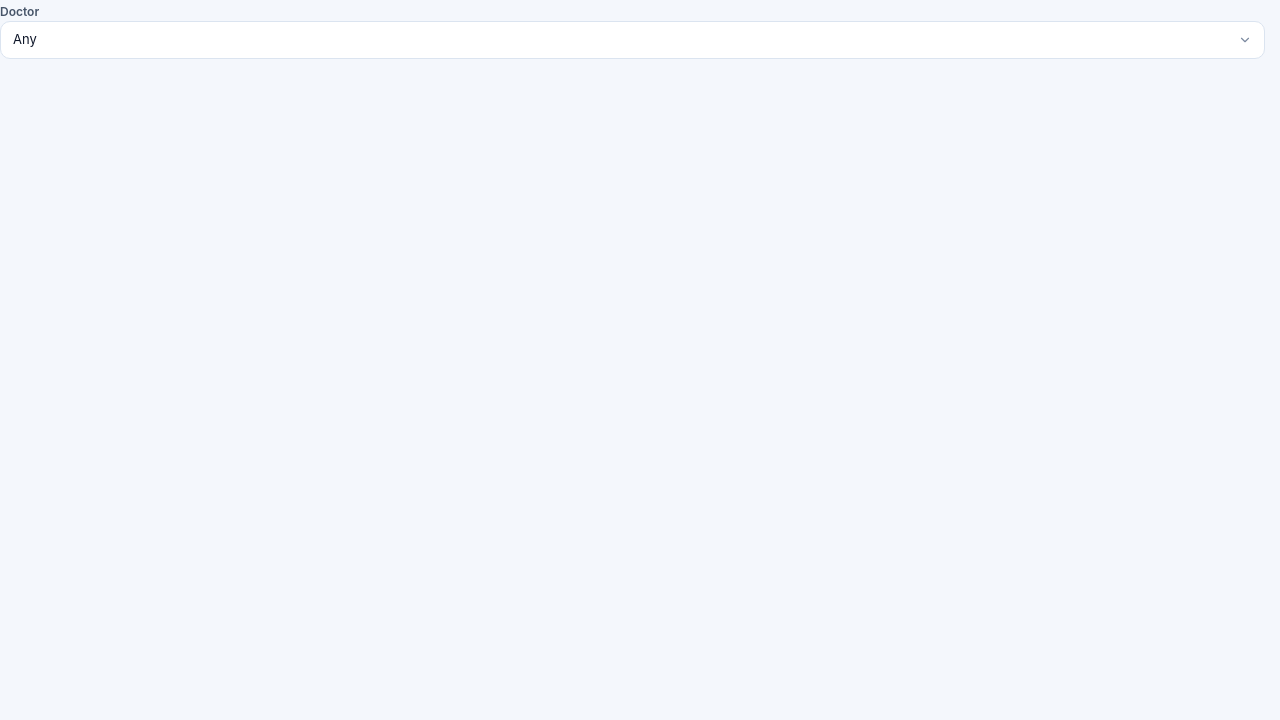
shows the selected doctor's detail line in the trigger
Click the dropdown named "Doctor": point(25, 39) [0,21,1265,59]
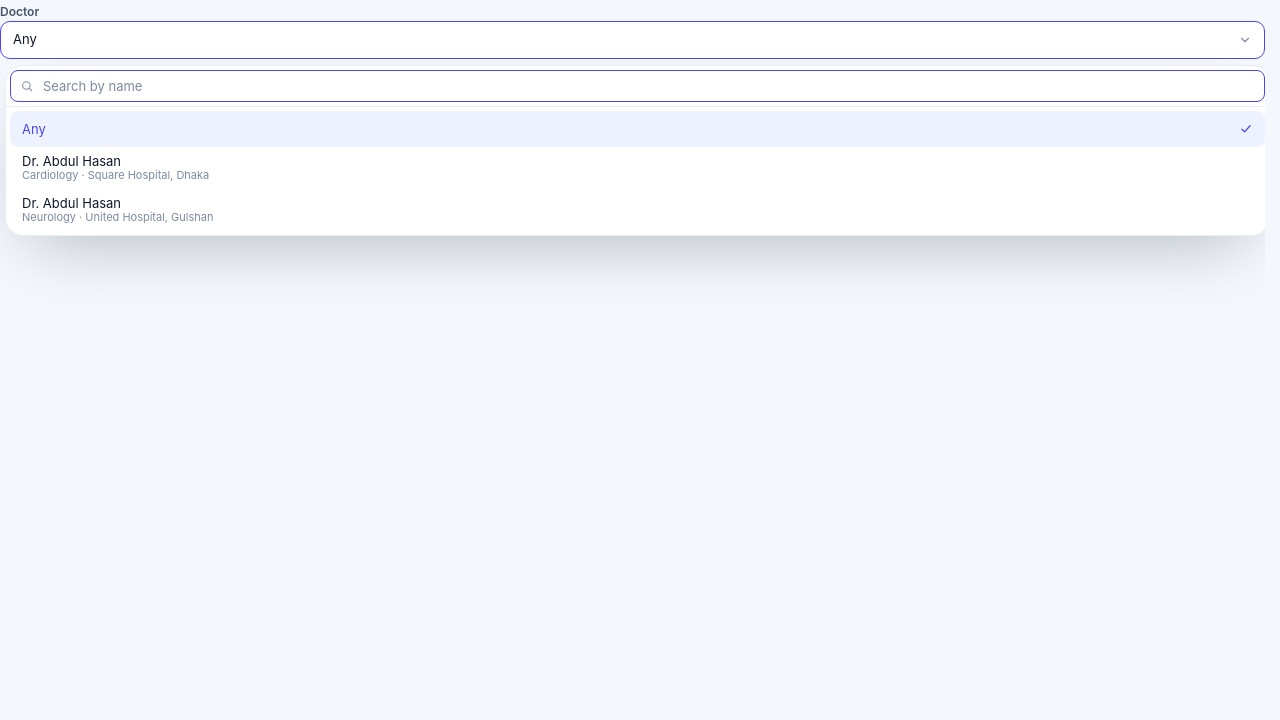
Click the option "Dr. Abdul Hasan Neurology · United Hospital, Gulshan": point(118, 210) [22,195,214,224]
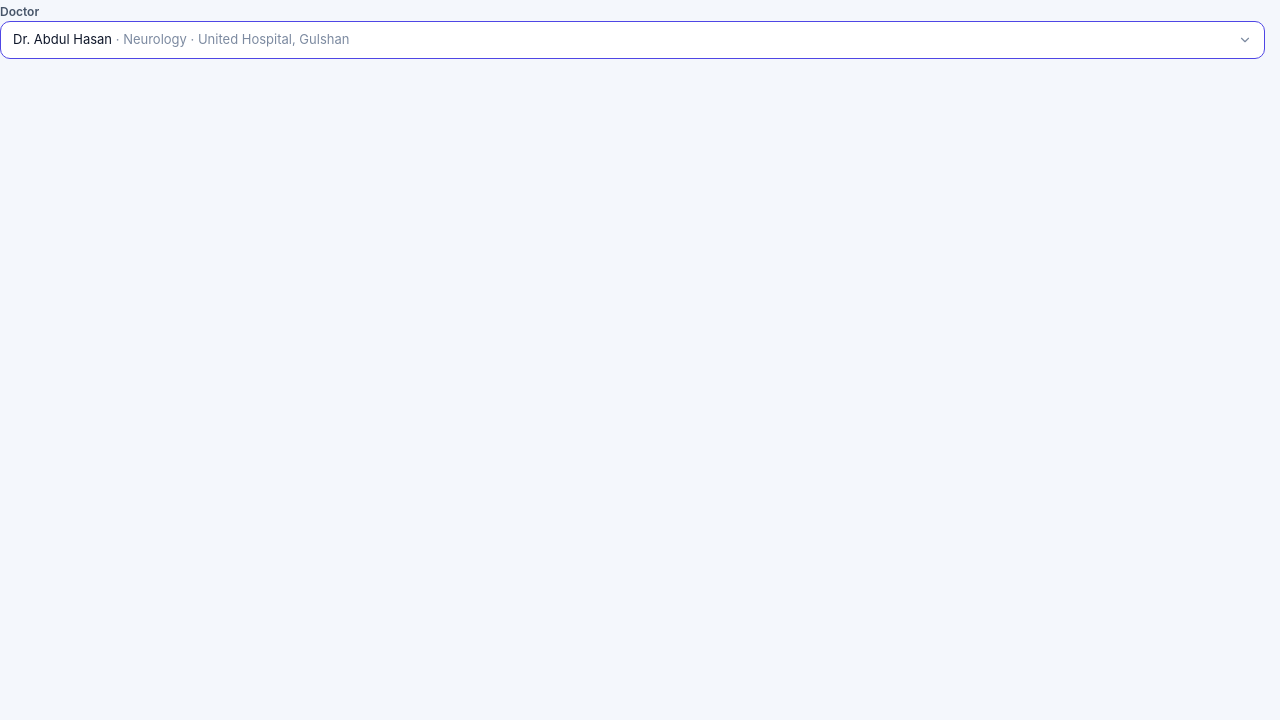
Result: the dropdown named "Doctor" reads "Dr. Abdul Hasan · Neurology · United Hospital, Gulshan" at [0,21,1265,59]
